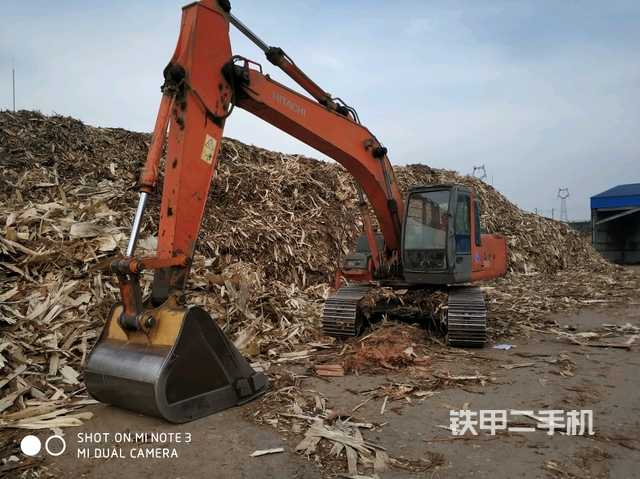excavator: (68, 3, 526, 420)
